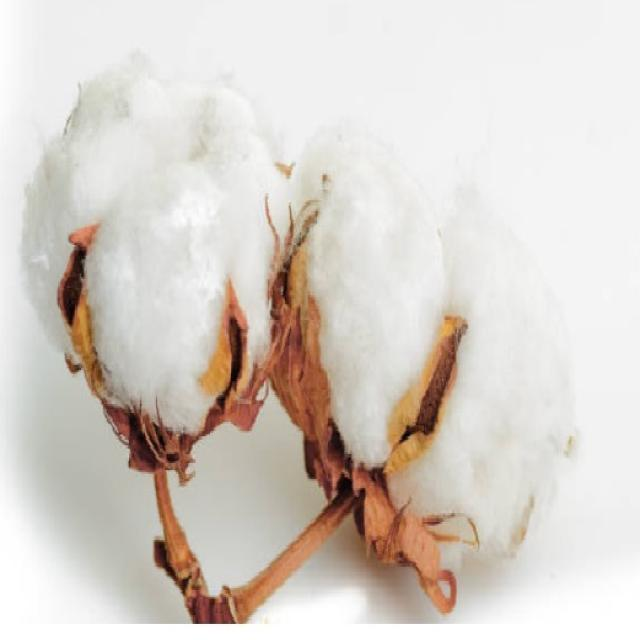Matured Cotton Boll: (273, 126, 574, 558), (26, 65, 277, 458)
